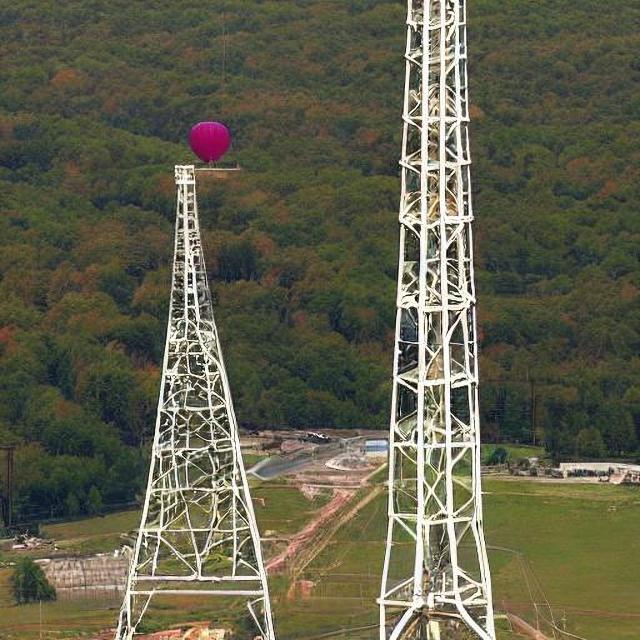balloon: (182, 116, 234, 166)
